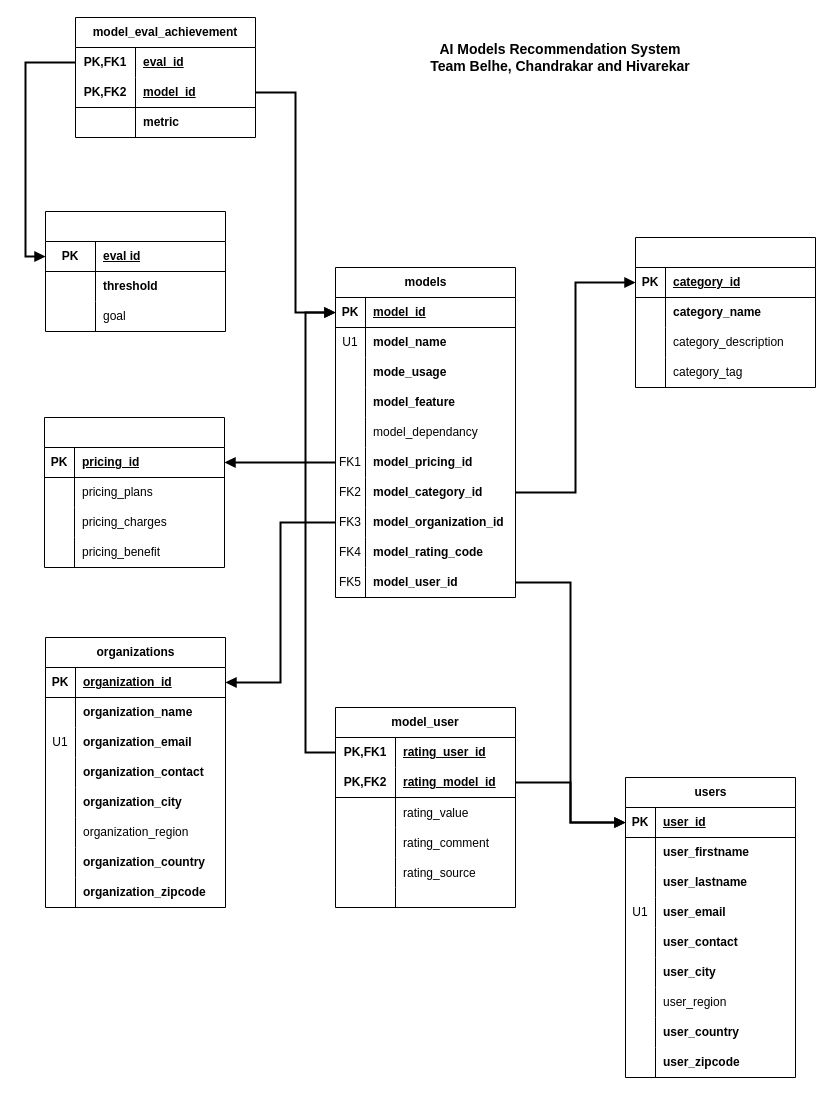
Some shapes in this 833 by 1095 pixel diagram are drawn without their labels. The box of each missing label's shape, as (x1, y1, x2, y2) in pixels:
categories: (634, 236, 816, 388)
evaluations: (44, 210, 226, 332)
pricings: (44, 416, 224, 568)
